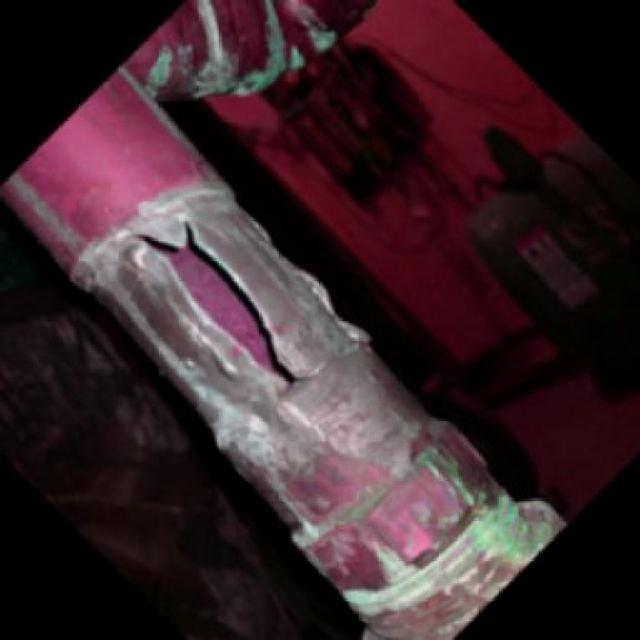Hole: (116, 222, 295, 381)
